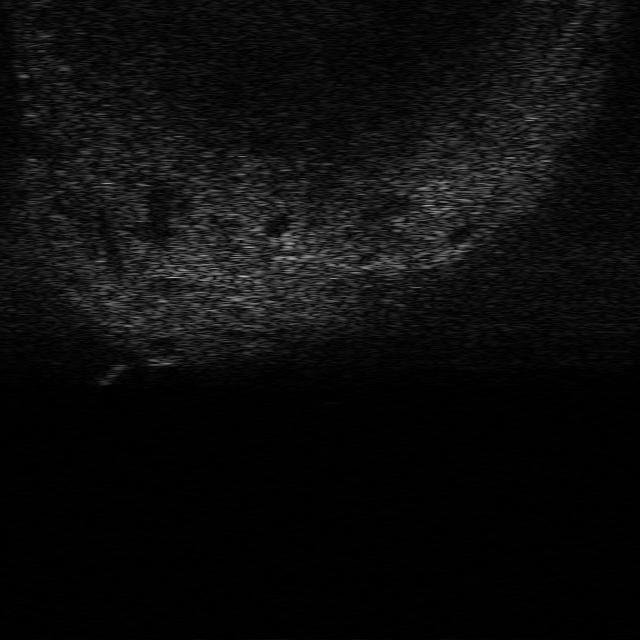cylinder: (95, 358, 127, 388)
